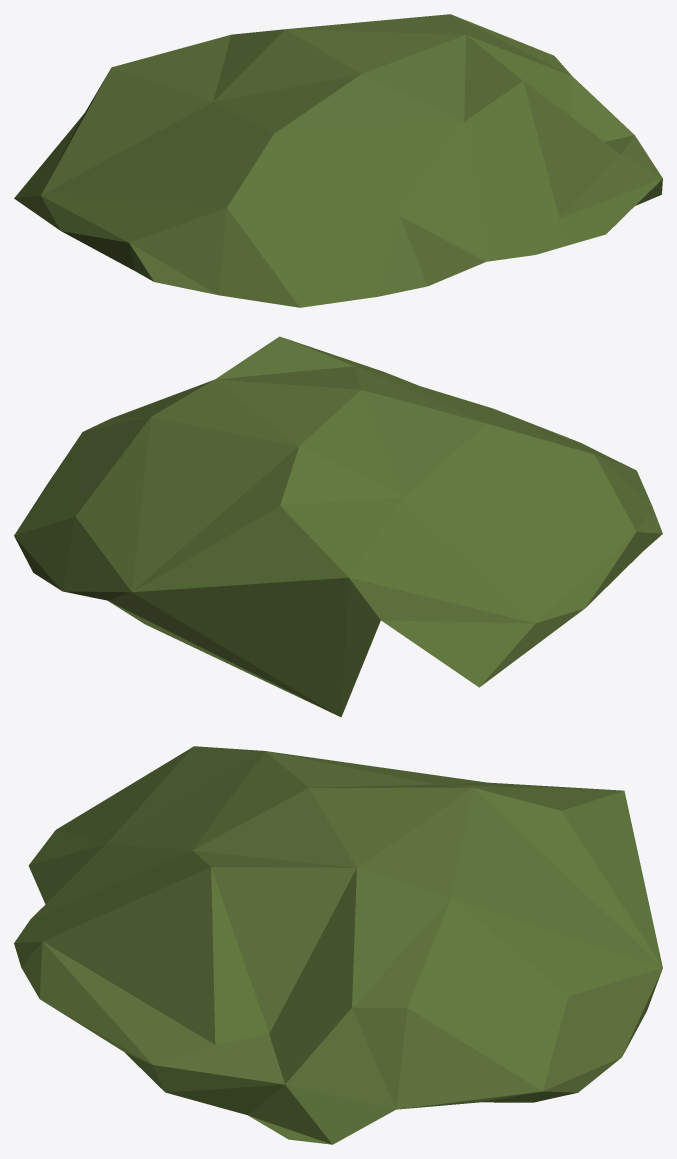
The model's file is SM_Prop_Sack_Filling_04.fbx.
The picture shows the model from 3 angles, top to bottom: view 1: azimuth 30°, elevation 25°; view 2: azimuth 150°, elevation 25°; view 3: azimuth 270°, elevation 25°; orthographic projection. The views are drawn at different scales.
Visible parts, largest first — view 1: SM_Prop_Sack_Filling_04; view 2: SM_Prop_Sack_Filling_04; view 3: SM_Prop_Sack_Filling_04.
Boxes of the visible parts, x1,y1,x2,y2 form: SM_Prop_Sack_Filling_04: [14, 14, 662, 307]; SM_Prop_Sack_Filling_04: [14, 336, 662, 717]; SM_Prop_Sack_Filling_04: [14, 746, 662, 1144].
Bounding box in the file's own units: 68.52 × 23.41 × 58.44.
